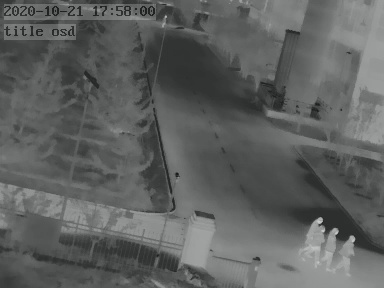person: (301, 214, 321, 256), (305, 225, 324, 266), (322, 225, 338, 267), (337, 235, 354, 274), (161, 14, 167, 30)
